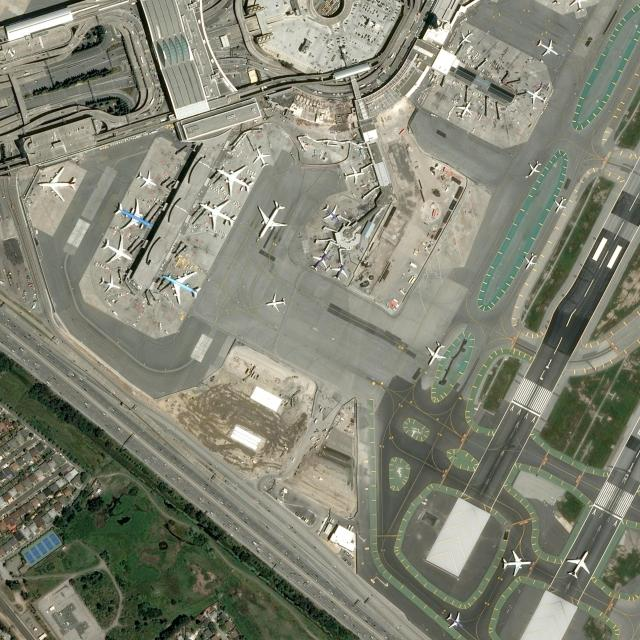1: (570, 0, 588, 12)
aircraft: (36, 165, 76, 201), (255, 197, 288, 240), (160, 270, 200, 302), (112, 198, 150, 230), (198, 198, 236, 230), (215, 165, 253, 196), (99, 232, 132, 264), (500, 548, 531, 576), (566, 548, 590, 580), (426, 340, 446, 366), (250, 146, 270, 170), (534, 38, 558, 58), (524, 86, 546, 106), (135, 169, 156, 188), (342, 165, 364, 183), (320, 202, 339, 222), (100, 274, 120, 292), (266, 293, 286, 310), (447, 610, 462, 630), (310, 253, 326, 271), (330, 263, 348, 279), (457, 100, 472, 118), (522, 252, 538, 268), (552, 195, 567, 212), (527, 158, 541, 176), (458, 29, 473, 45)
